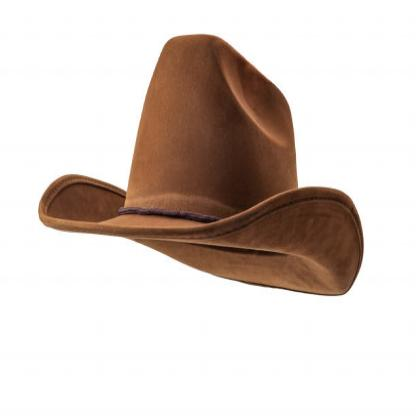hat: (35, 29, 365, 299)
